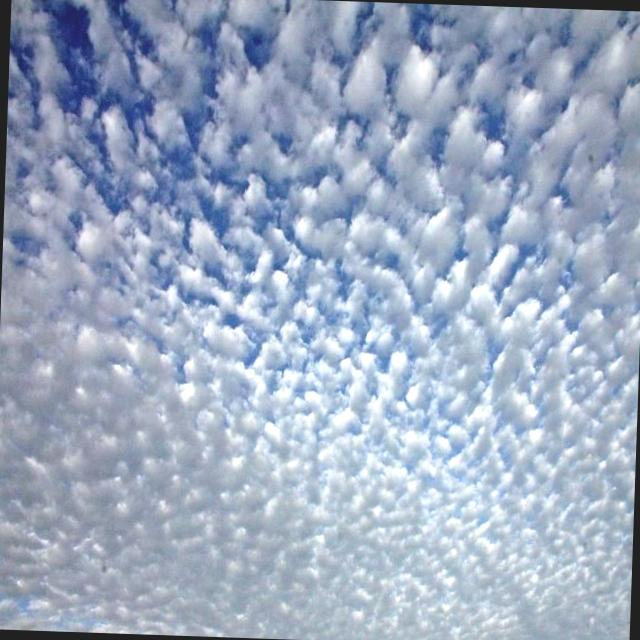altocumulus: (5, 12, 621, 640)
